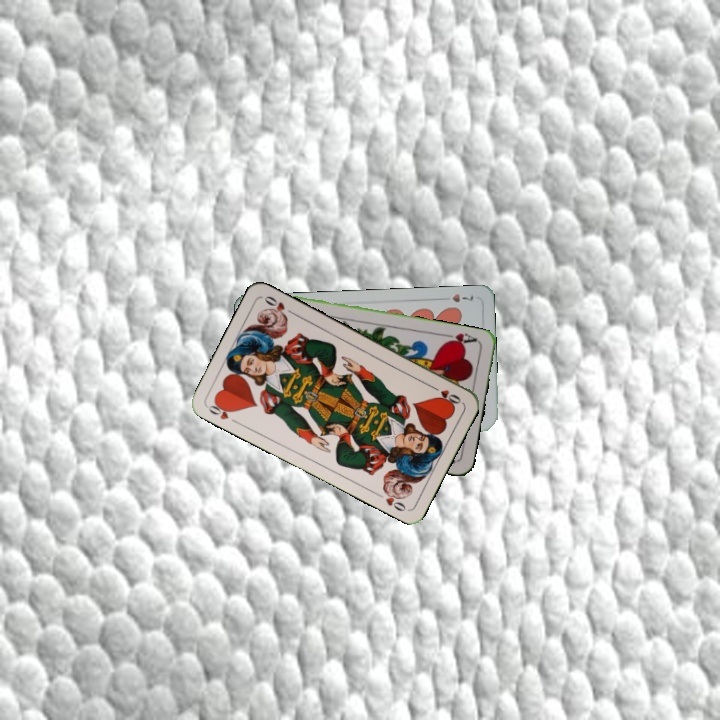H7: (437, 290, 477, 305)
HA: (440, 329, 480, 349)
HO: (204, 397, 241, 426), (426, 381, 464, 407)
